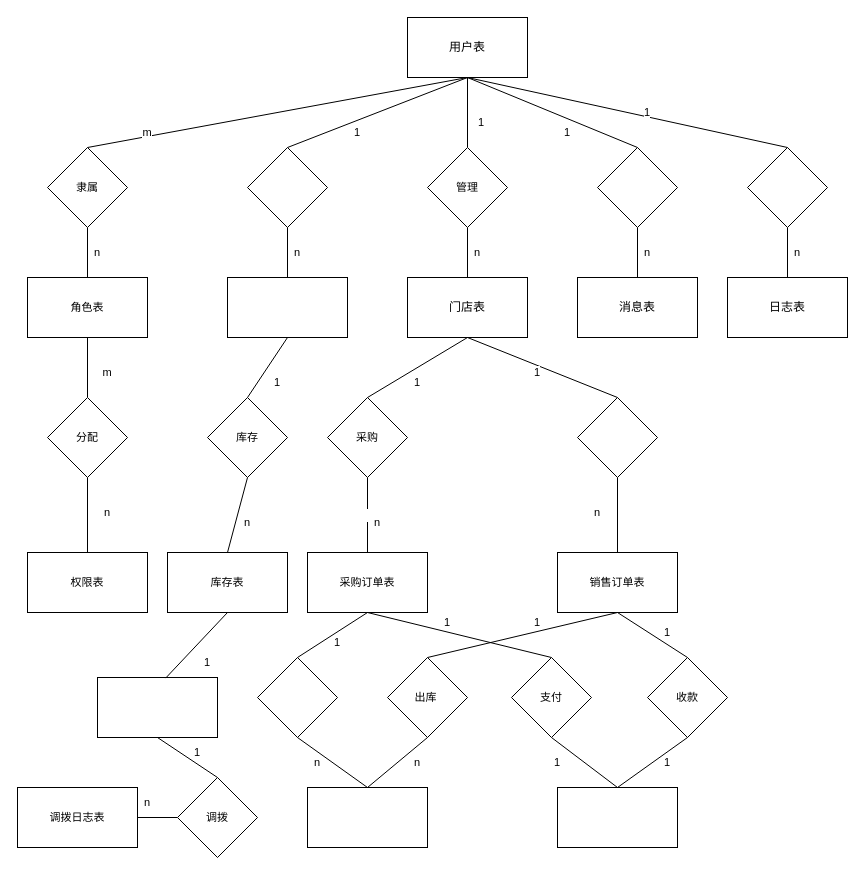
This 865x875 diagram has some shape labels left out. Each missing label, with the centre of its shape:
"仓库表" goes at (157,707).
"供应" goes at (287,187).
"入库" goes at (297,697).
"商品表" goes at (287,307).
"库存明细表" goes at (367,817).
"记录" goes at (787,187).
"通知" goes at (637,187).
"金额订单表" goes at (617,817).
"销售" goes at (617,437).
